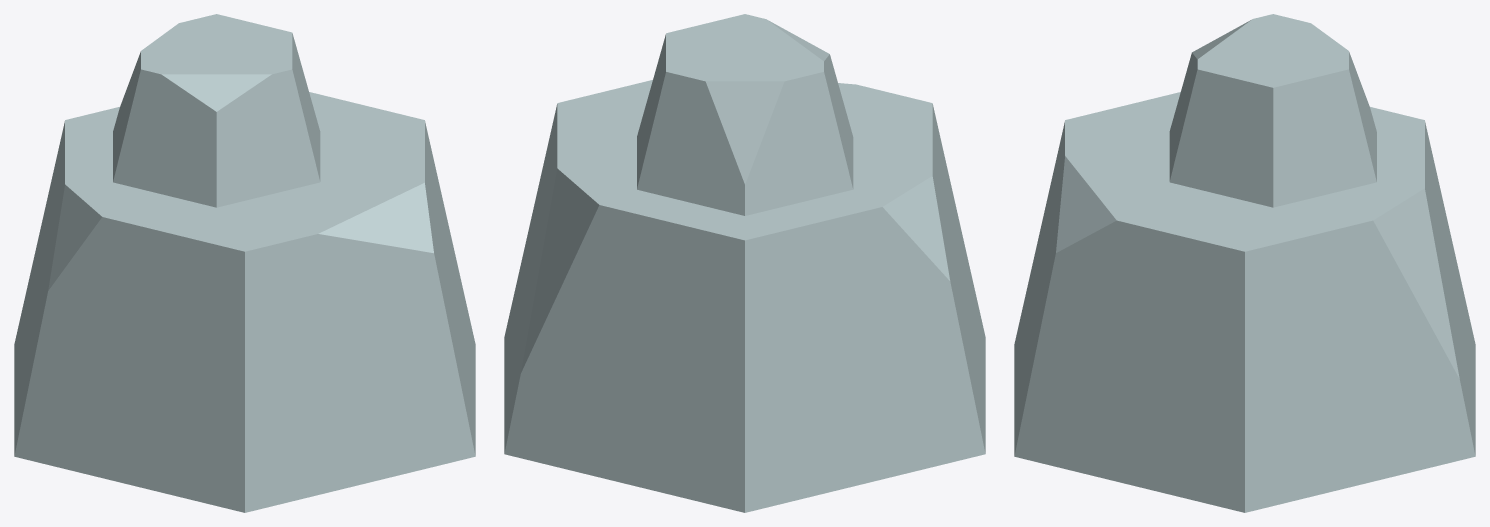
Rendered from stone_smallE.glb.
3 views of the same model, side by side, from view 1: azimuth 30°, elevation 25°; view 2: azimuth 150°, elevation 25°; view 3: azimuth 270°, elevation 25° (orthographic). The views are drawn at different scales.
Visible parts, largest first — view 1: stone_smallE; view 2: stone_smallE; view 3: stone_smallE.
Part boxes in pixels (left/top/right/bottom): stone_smallE: left=14, top=14, right=475, bottom=512; stone_smallE: left=504, top=14, right=985, bottom=512; stone_smallE: left=1014, top=14, right=1475, bottom=512.
Size of the model in its own units: 0.3608 by 0.2562 by 0.3125.
